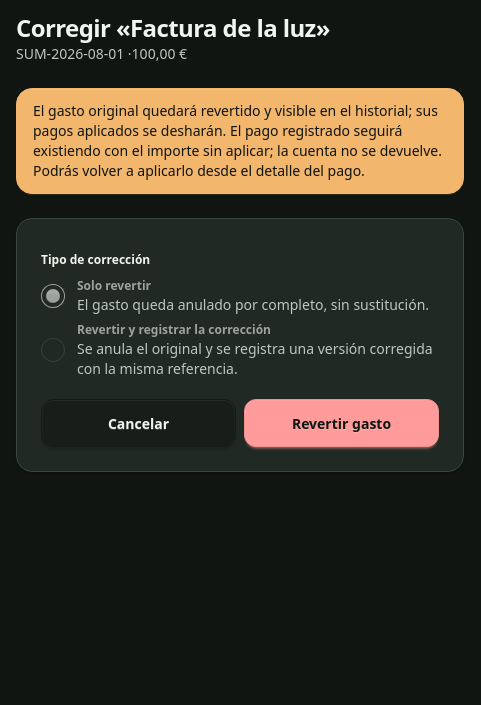
Scenario: CorrectExpensePage › reveals the corrected amount input in replace mode
Check: the field labelled "Importe corregido" is not shown
Click the radio button labelled "Revertir y registrar la corrección": (53, 350) [41, 338, 65, 362]
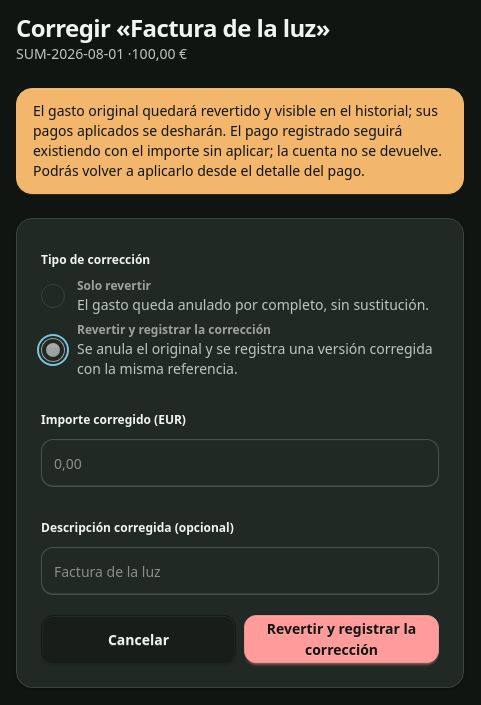
Check: the field labelled "Importe corregido (EUR)" is shown, box [41, 439, 439, 487]
Check: the field labelled "Descripción corregida (opcional)" is shown, box [41, 547, 439, 595]
